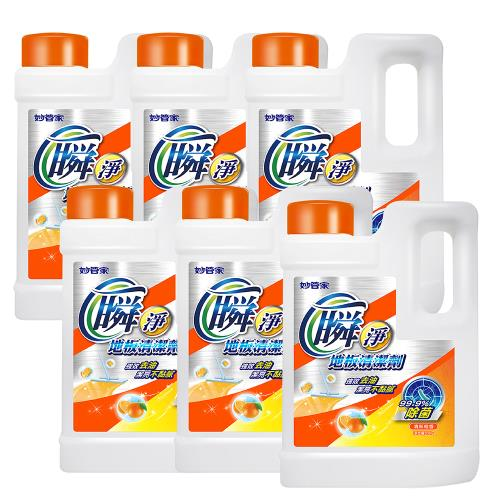cleaner: (232, 30, 448, 311), (272, 200, 482, 486), (165, 185, 325, 477), (103, 30, 265, 302), (11, 29, 143, 326), (56, 185, 175, 477)
